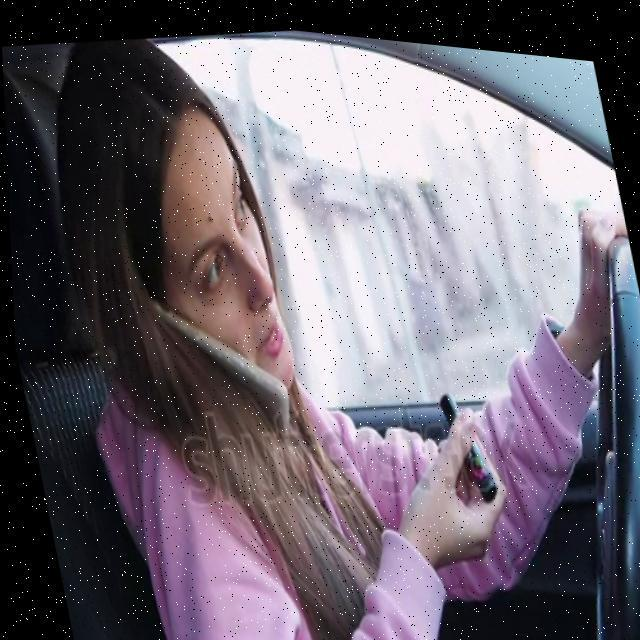PhoneCall: (130, 271, 296, 454)
